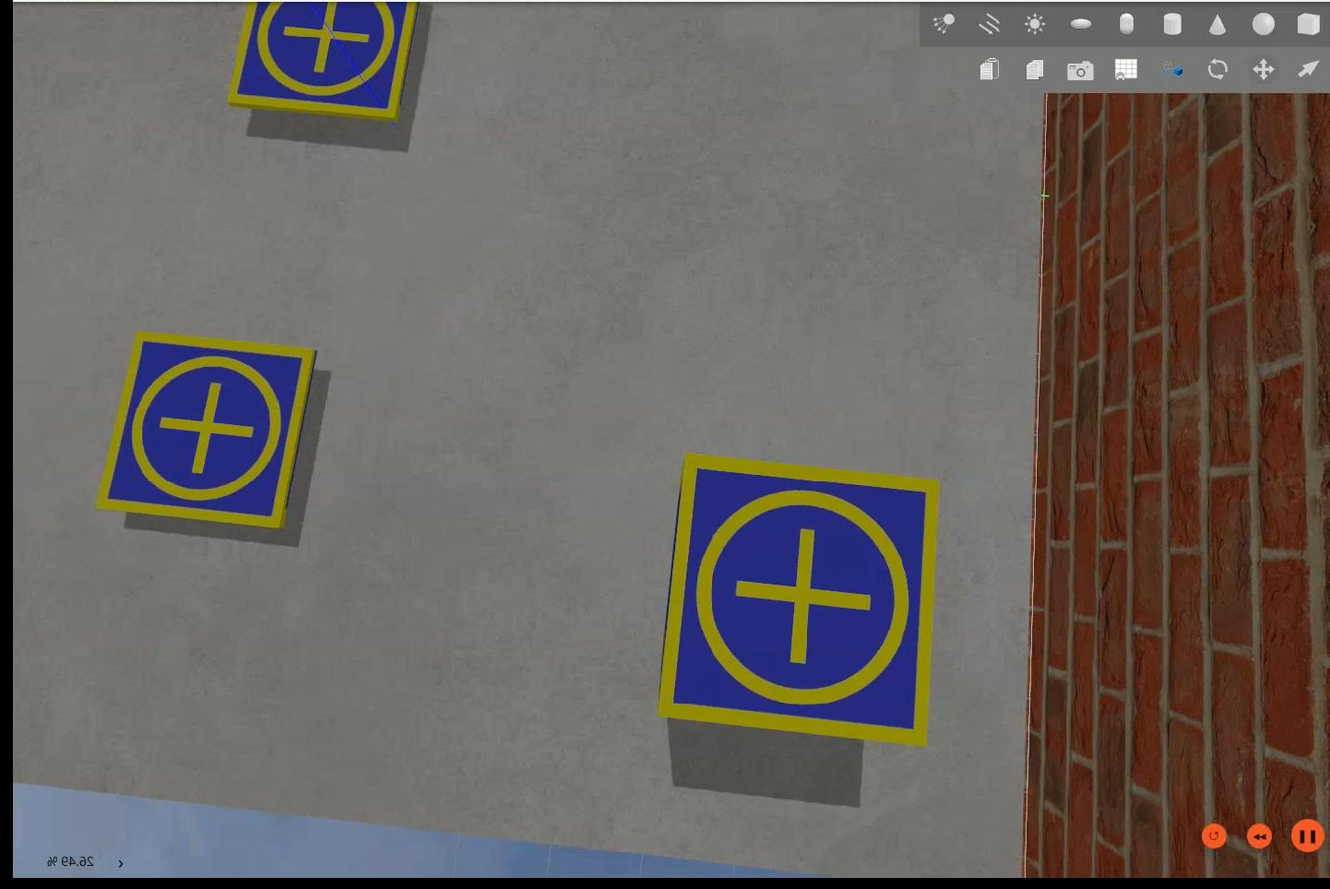small_base: (648, 450, 939, 753), (89, 328, 315, 539), (220, 1, 421, 128)
